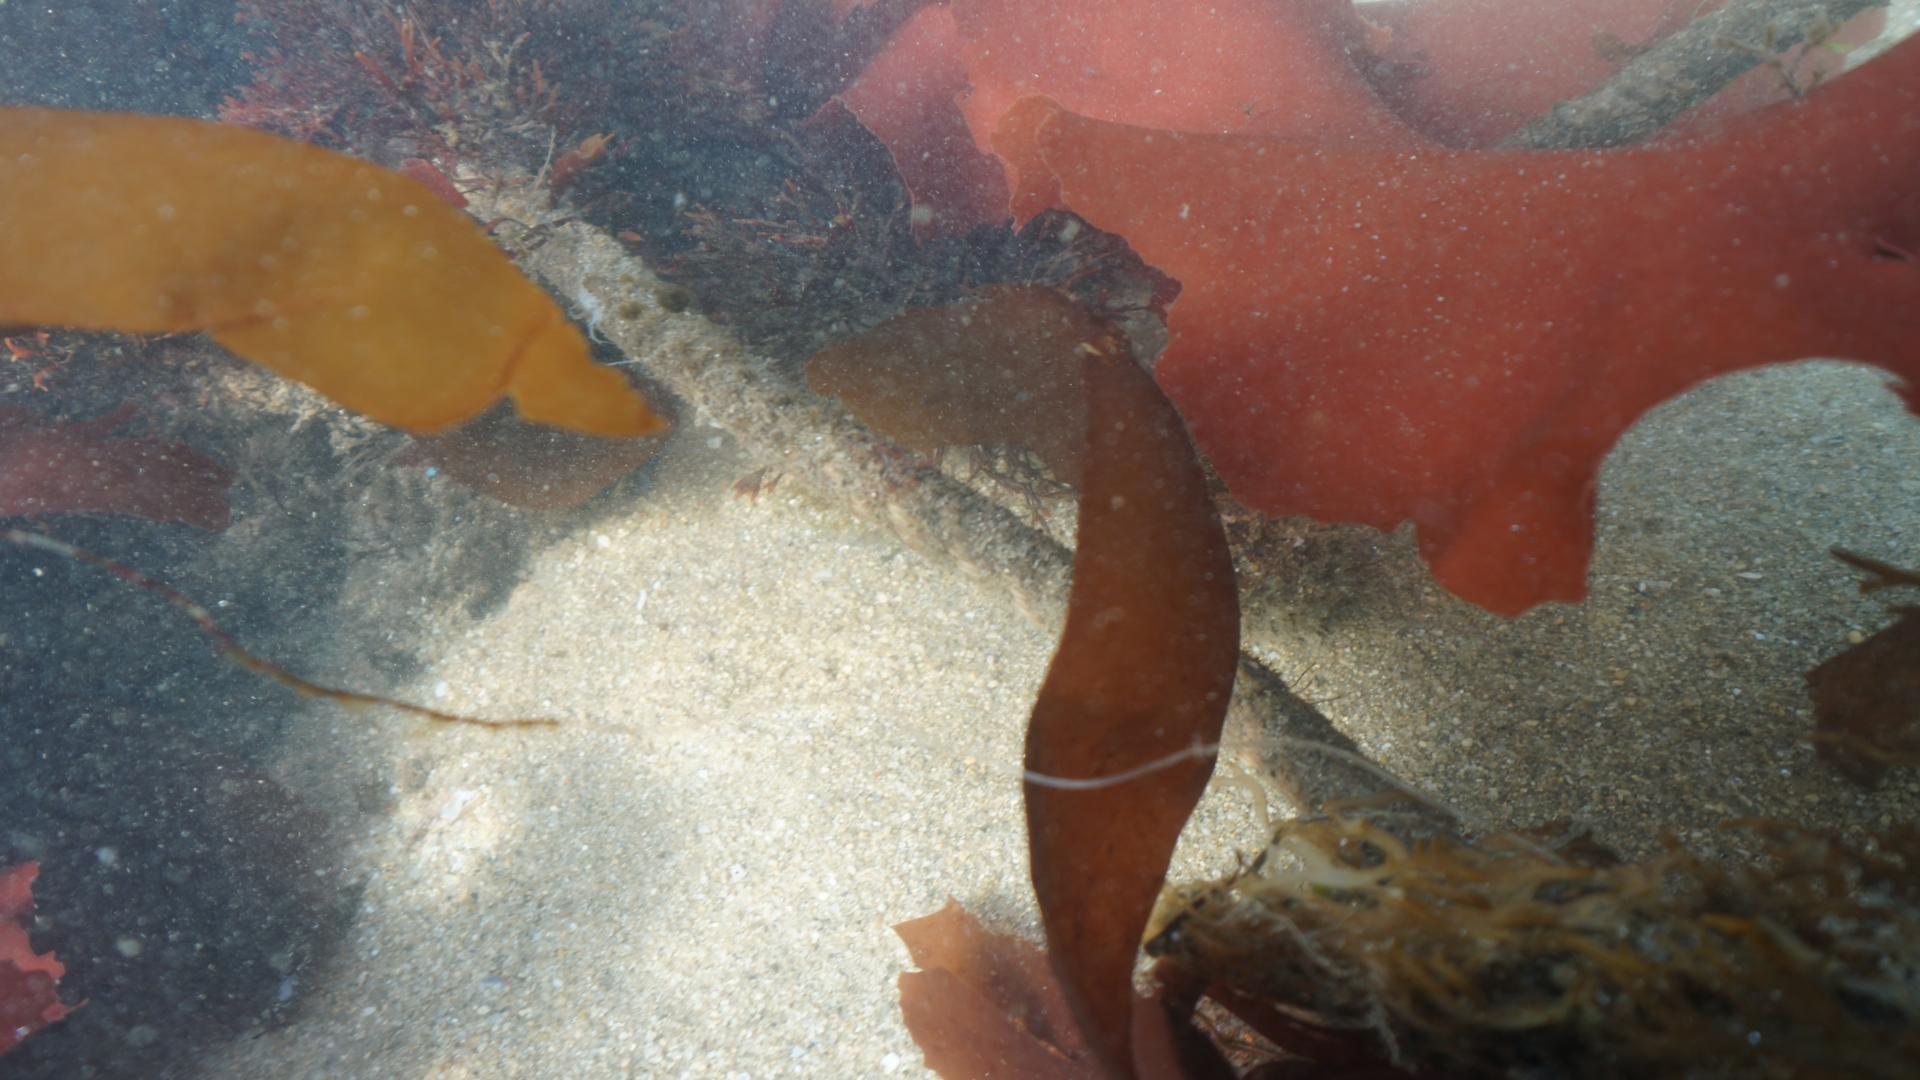rope: (431, 133, 1448, 872), (1497, 0, 1861, 146)
